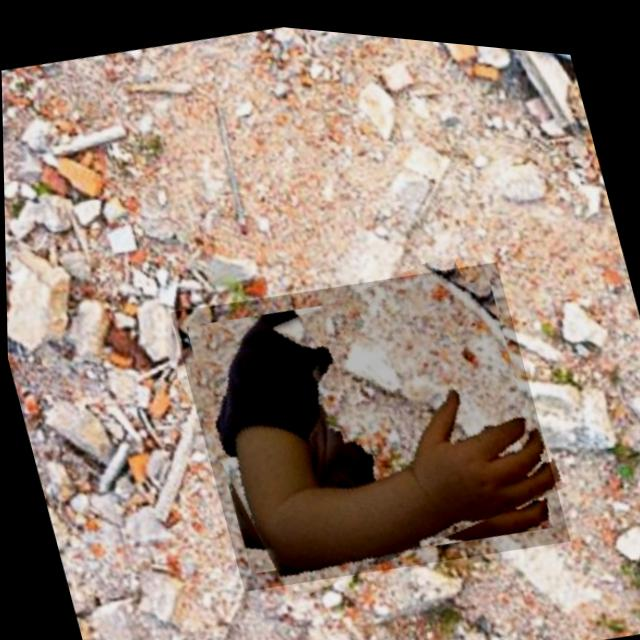Person in Rubble: (167, 227, 569, 611)
